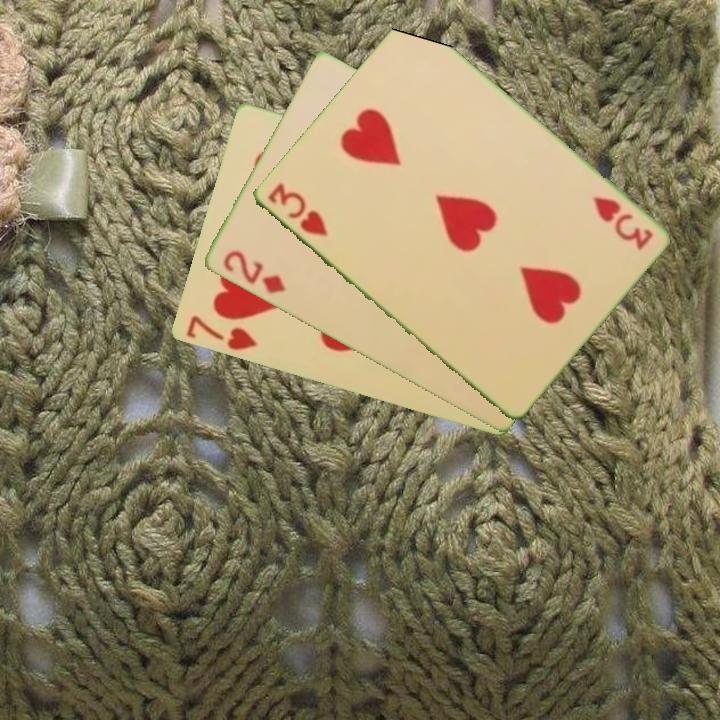2d: (219, 247, 288, 297)
3h: (589, 192, 656, 254), (263, 179, 331, 240)
7h: (182, 312, 260, 354)
